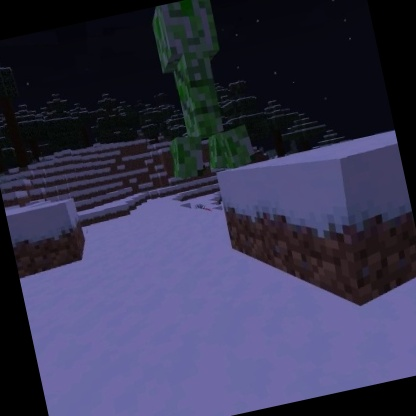creeper: (136, 0, 260, 184)
